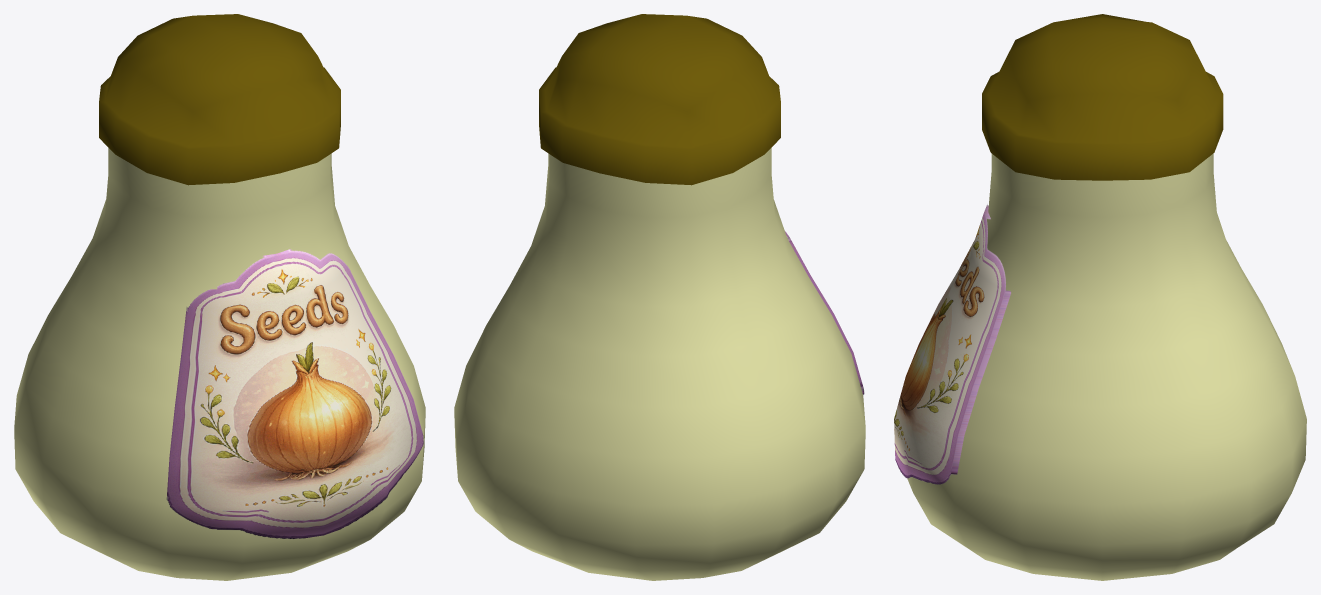
Rendered from seed_onion.glb.
3 views of the same model, side by side, from view 1: azimuth 30°, elevation 25°; view 2: azimuth 150°, elevation 25°; view 3: azimuth 270°, elevation 25° (orthographic).
Visible parts, largest first — view 1: seed_onion; view 2: seed_onion; view 3: seed_onion.
Boxes of the visible parts, x1=… form: seed_onion: x1=14, y1=14, x2=425, y2=580; seed_onion: x1=454, y1=14, x2=865, y2=580; seed_onion: x1=894, y1=14, x2=1306, y2=580.
Size of what is drawn, in the model's own units: 0.3161 by 0.4348 by 0.3193.
3 materials, 1 textured.
